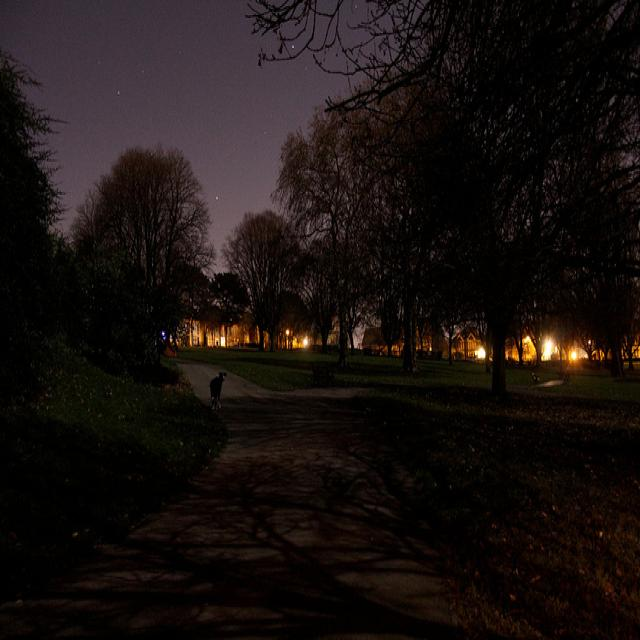dog: (209, 340, 228, 424)
